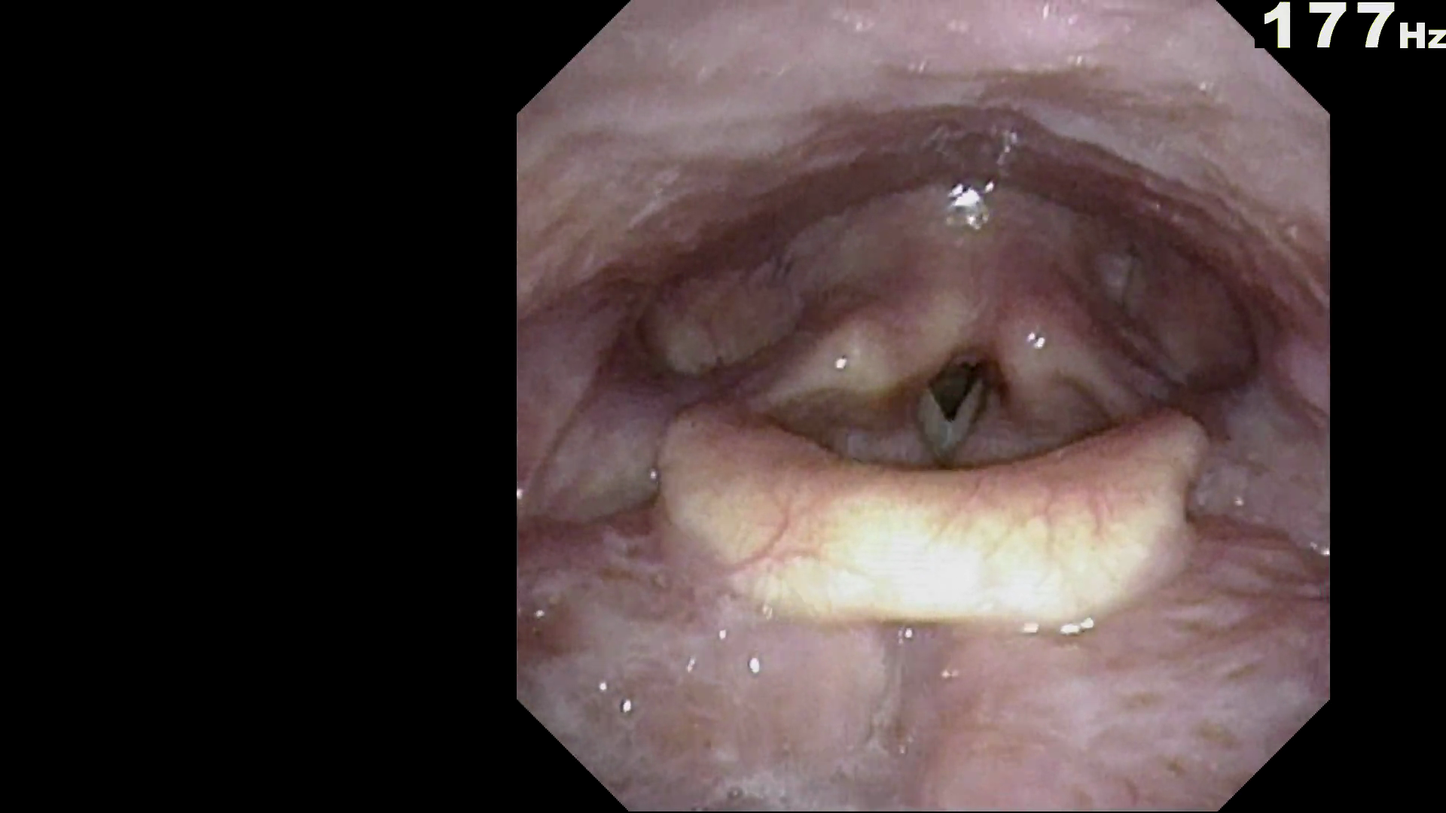epiglottis: (659, 409, 1205, 637)
trachea: (889, 301, 1028, 476)
